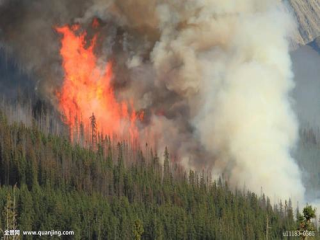fire: (50, 29, 138, 151)
smoke: (156, 6, 306, 205)
